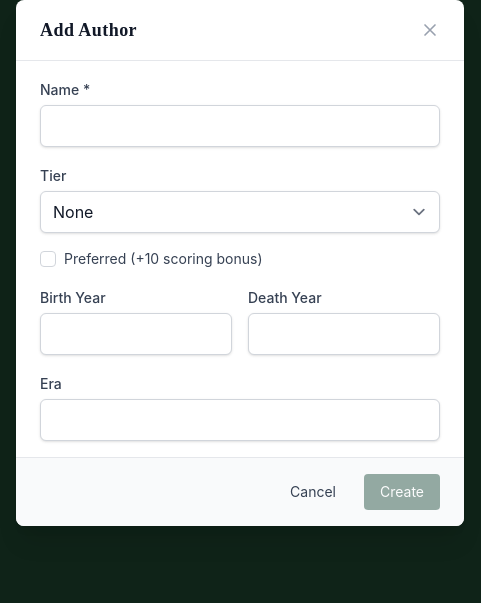
EntityFormModal › form validation (#664) › author year validation › shows error when birth_year is below 1000
The image size is (481, 603).
Type "Test Author" into the field labelled "Name *".
click(240, 126); type("Test Author")  # box [40,105,440,147]
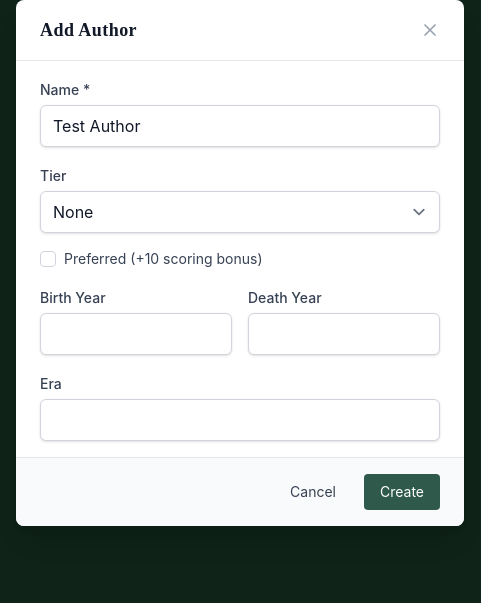
Type "999" into the number field labelled "Birth Year".
click(136, 334); type("999")  # box [40,313,232,355]
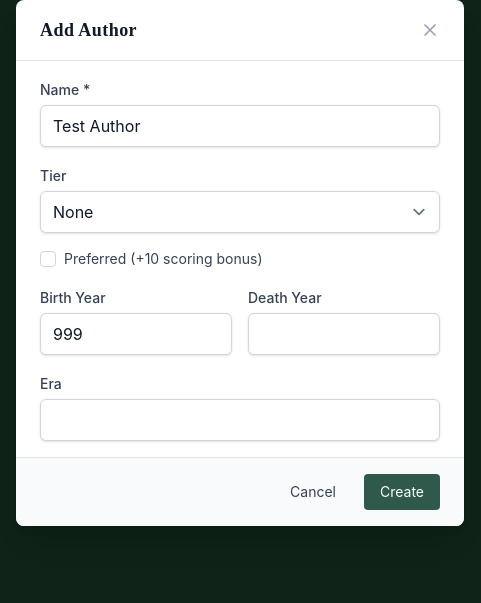
Click the button "Create".
click(402, 492)  # box [364,474,440,510]
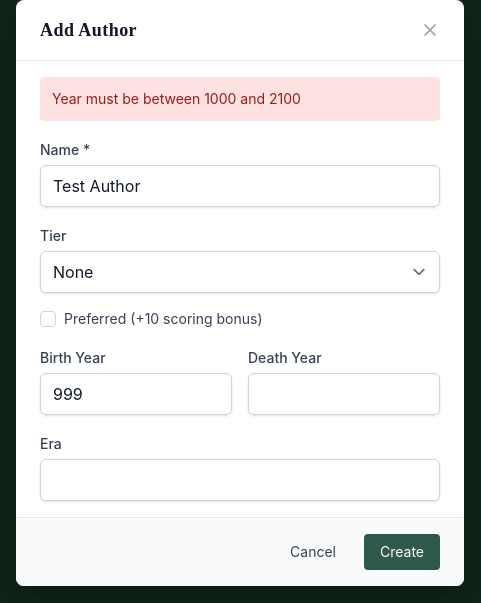
Now the text "Year must be between 1000 and 2100" is shown, box [40,77,440,121]
Now the text with test id "validation-error" reads "Year must be between 1000 and 2100", box [52,90,301,107]
